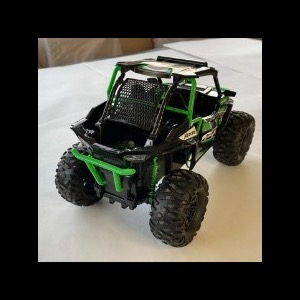polaris: (54, 56, 256, 248)
